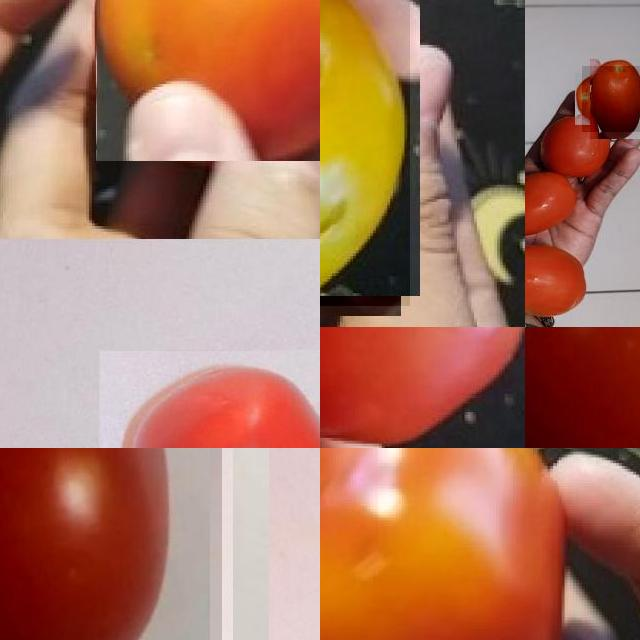0: (0, 448, 221, 640)
Fresh Tomato: (320, 448, 565, 640), (320, 327, 525, 448), (525, 243, 588, 319), (540, 116, 613, 176), (582, 66, 640, 132), (525, 171, 578, 239)
Rotten Tomato: (320, 0, 410, 306)
